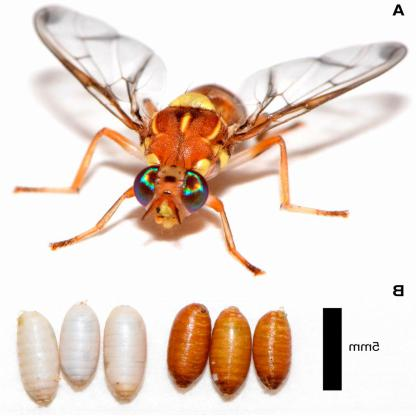fruit fly: (12, 4, 408, 251)
